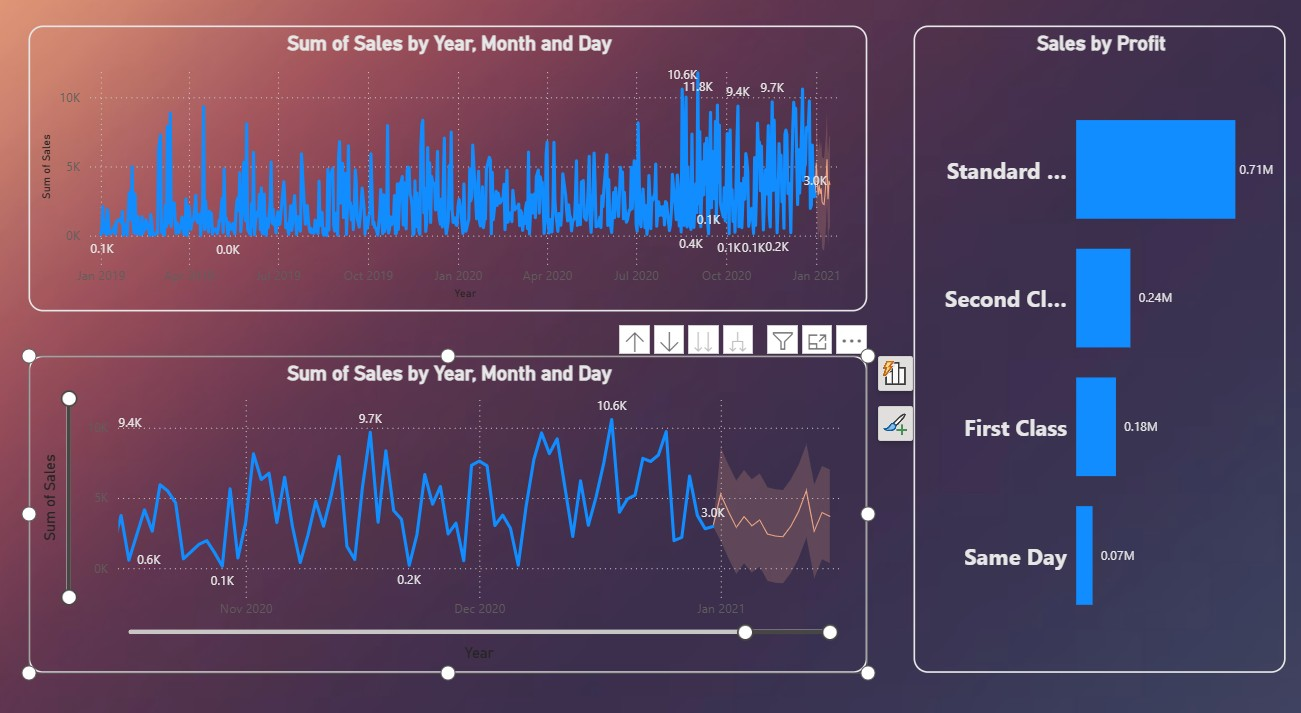

This screenshot's page, from the dashboard's own definition file:
{"tool":"powerbi","page":{"name":"Page 2","canvas":[1280,720],"ordinal":1},"visuals":[{"type":"lineChart","fields":{"Y":["Sum(SuperStore_Sales_Dataset.Sales)"],"Category":["SuperStore_Sales_Dataset.Order Date.Variation.Date Hierarchy.Year","SuperStore_Sales_Dataset.Order Date.Variation.Date Hierarchy.Month","SuperStore_Sales_Dataset.Order Date.Variation.Date Hierarchy.Day"]},"box":[36.2,41,809.5,276.3],"z":0},{"type":"lineChart","fields":{"Y":["Sum(SuperStore_Sales_Dataset.Sales)"],"Category":["SuperStore_Sales_Dataset.Order Date.Variation.Date Hierarchy.Year","SuperStore_Sales_Dataset.Order Date.Variation.Date Hierarchy.Month","SuperStore_Sales_Dataset.Order Date.Variation.Date Hierarchy.Day"]},"box":[36.2,359.5,809.5,306.4],"z":1000},{"type":"clusteredBarChart","title":"Sales by Profit","fields":{"Y":["Sum(SuperStore_Sales_Dataset.Sales)"],"Category":["SuperStore_Sales_Dataset.Ship Mode"]},"box":[890.4,41,359.5,624.9],"z":2000}]}

Visuals, with their boxes in screenshot pixels (x1, y1, x2, y2), scaled from the page's 1280x720 canvas onto the 1301x713 screenshot:
lineChart - Sum(SuperStore_Sales_Dataset.Sales) x SuperStore_Sales_Dataset.Order Date.Variation.Date Hierarchy.Year: box=[37, 41, 860, 314]
lineChart - Sum(SuperStore_Sales_Dataset.Sales) x SuperStore_Sales_Dataset.Order Date.Variation.Date Hierarchy.Year: box=[37, 356, 860, 659]
"Sales by Profit" clusteredBarChart: box=[905, 41, 1270, 659]
